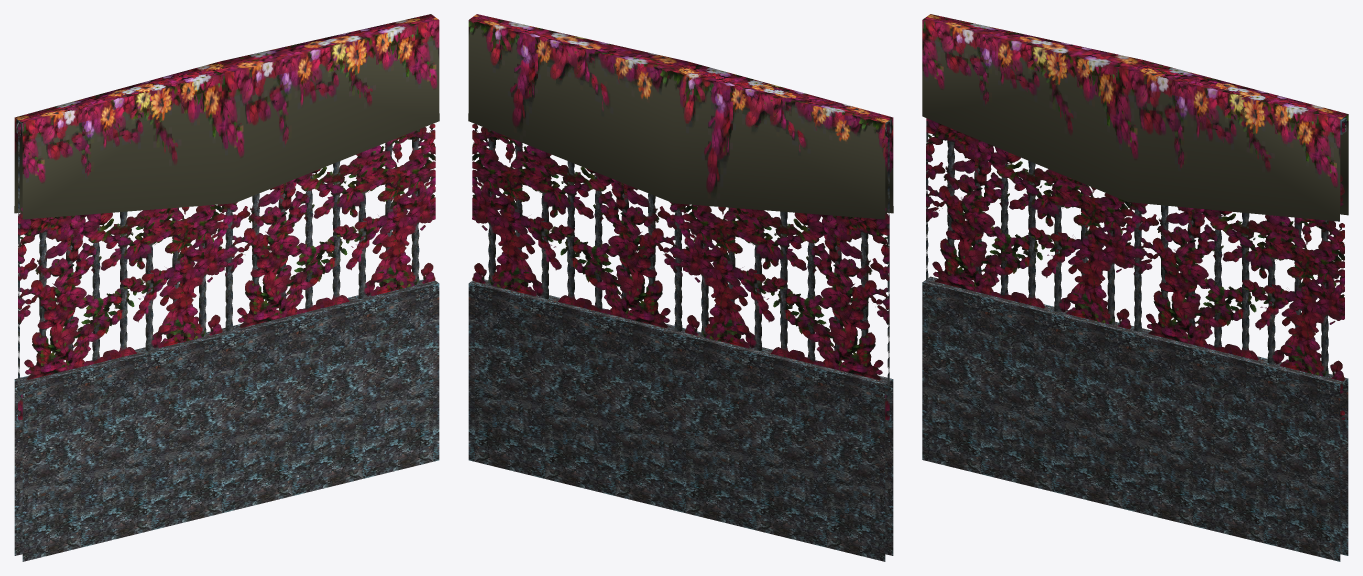
File: thm_nboo_imprv_lattice_wall_short_s01_l1.fbx
3 renders of one model, left to right at view 1: azimuth 30°, elevation 25°; view 2: azimuth 150°, elevation 25°; view 3: azimuth 330°, elevation 25°, orthographic.
Visible parts, largest first — view 1: mesh_node; view 2: mesh_node; view 3: mesh_node.
Part boxes in pixels (x1,y1,x2,y2): mesh_node: (14,14,439,561); mesh_node: (468,14,893,561); mesh_node: (922,14,1348,561).
Size of the model in its own units: 3 by 3.04 by 0.1883.
